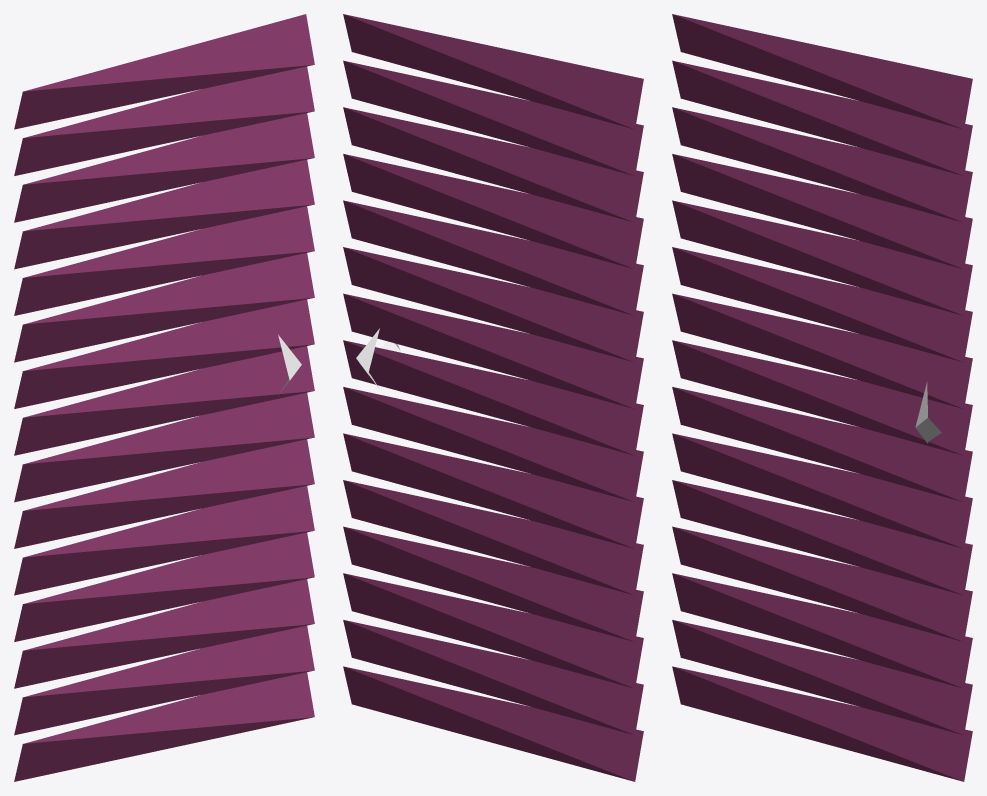
The model's file is Pink Wood Slat Door.glb.
3 renders of one model, left to right at view 1: azimuth 30°, elevation 25°; view 2: azimuth 150°, elevation 25°; view 3: azimuth 330°, elevation 25°, orthographic.
Parts seen in each view (by area): view 1: Door; view 2: Door; view 3: Door.
Part boxes in pixels (<box>): Door: <box>14,14,314,781</box>; Door: <box>343,14,643,781</box>; Door: <box>672,14,972,781</box>.
Bounding box in the file's own units: 0.9 × 2.05 × 0.1727.
